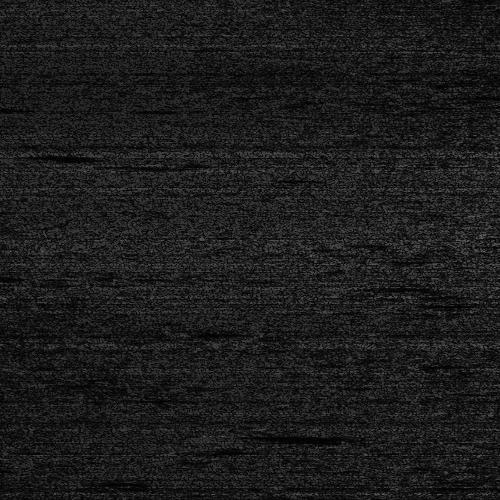object: (166, 432, 259, 441), (0, 153, 43, 162)
shadow: (213, 432, 333, 441), (6, 153, 64, 162)
